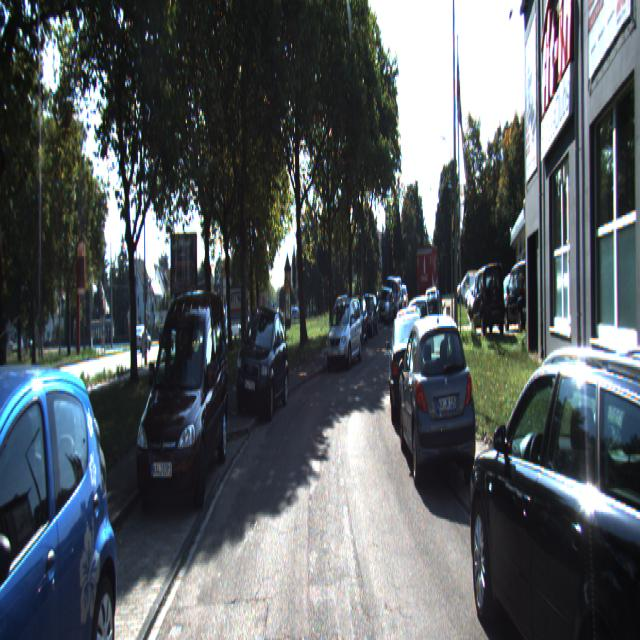Car: (460, 319, 640, 638), (0, 340, 128, 638), (130, 282, 232, 514), (397, 300, 479, 495), (235, 297, 289, 420), (388, 306, 431, 429), (502, 259, 546, 342), (325, 302, 363, 374), (469, 259, 506, 332), (416, 240, 439, 308)
